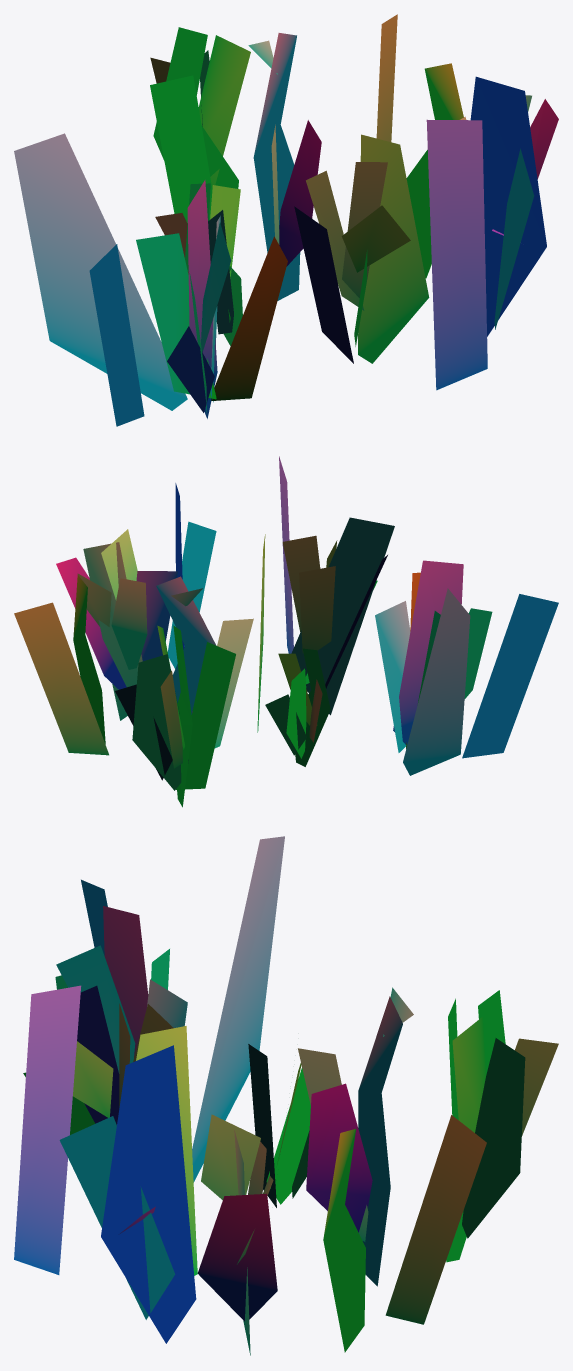
The model's file is Nordic_Coastal_Groundcover_vlqkdeaja_Mid_vlqkdeaja_VarL_LOD3.fbx.
3 renders of one model, top to bottom at view 1: azimuth 30°, elevation 25°; view 2: azimuth 150°, elevation 25°; view 3: azimuth 270°, elevation 25°, orthographic. The views are drawn at different scales.
Visible parts, largest first — view 1: _y7es_VarL_LOD5; view 2: _y7es_VarL_LOD5; view 3: _y7es_VarL_LOD5.
Boxes of the visible parts, box(x1,y1,x2,y2) form: _y7es_VarL_LOD5: box(14, 14, 558, 426); _y7es_VarL_LOD5: box(14, 456, 558, 807); _y7es_VarL_LOD5: box(14, 836, 558, 1355).
Size of the model in its own units: 81.64 by 41.88 by 64.73.
